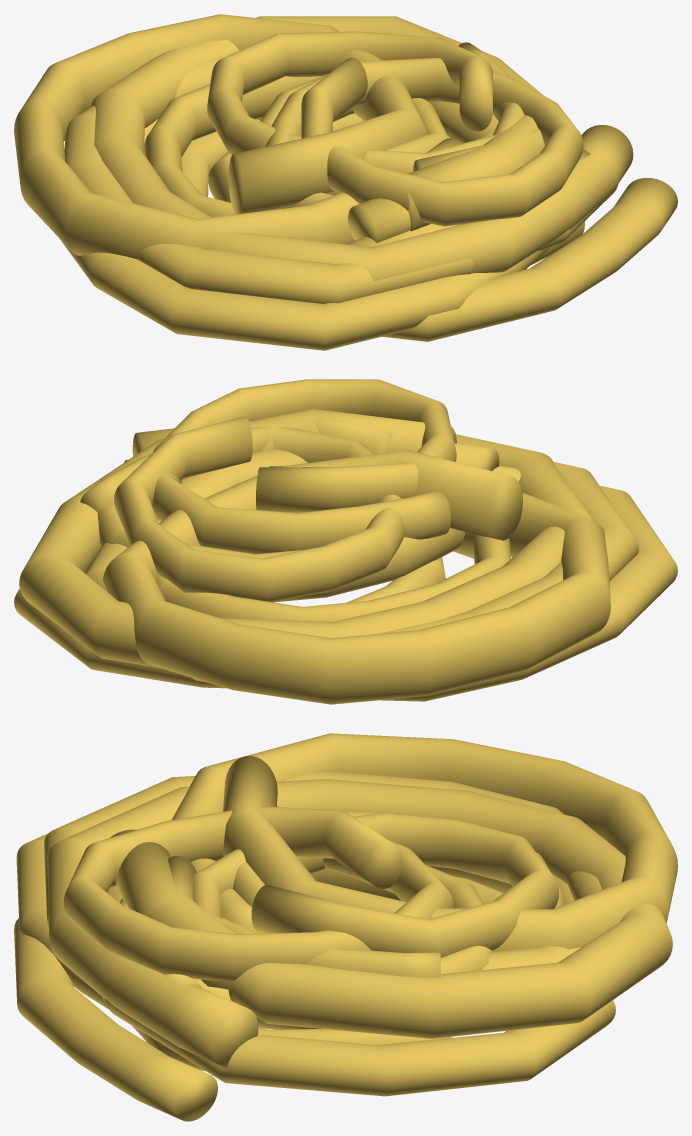
The model's file is cookedPasta.fbx.
3 views of the same model, one above another, from view 1: azimuth 30°, elevation 25°; view 2: azimuth 150°, elevation 25°; view 3: azimuth 270°, elevation 25° (orthographic). The views are drawn at different scales.
Parts seen in each view (by area): view 1: Cylinder.008, Cylinder.001, Cylinder.009, Cylinder.005, Cylinder.006, Cylinder, Cylinder.002, Cylinder.007, Cylinder.004, Cylinder.003; view 2: Cylinder.008, Cylinder.009, Cylinder.001, Cylinder, Cylinder.006, Cylinder.005, Cylinder.007, Cylinder.004, Cylinder.002, Cylinder.003; view 3: Cylinder.001, Cylinder.008, Cylinder.002, Cylinder.009, Cylinder, Cylinder.006, Cylinder.004, Cylinder.005, Cylinder.003, Cylinder.007.
Boxes of the visible parts, <box> form: Cylinder.008: <box>14,14,462,259</box>; Cylinder.001: <box>90,16,633,281</box>; Cylinder.009: <box>266,57,583,226</box>; Cylinder.005: <box>59,118,550,350</box>; Cylinder.006: <box>64,50,498,303</box>; Cylinder: <box>207,31,524,173</box>; Cylinder.002: <box>181,119,677,341</box>; Cylinder.007: <box>144,76,448,217</box>; Cylinder.004: <box>260,74,590,208</box>; Cylinder.003: <box>208,113,584,265</box>; Cylinder.008: <box>102,450,610,704</box>; Cylinder.009: <box>152,379,456,554</box>; Cylinder.001: <box>19,408,590,667</box>; Cylinder: <box>80,416,404,602</box>; Cylinder.006: <box>86,443,638,633</box>; Cylinder.005: <box>192,466,677,701</box>; Cylinder.007: <box>155,532,510,621</box>; Cylinder.004: <box>97,417,464,602</box>; Cylinder.002: <box>14,459,512,688</box>; Cylinder.003: <box>86,557,445,602</box>; Cylinder.001: <box>47,779,672,1067</box>; Cylinder.008: <box>172,733,677,951</box>; Cylinder.002: <box>14,876,615,1121</box>; Cylinder.009: <box>63,806,453,981</box>; Cylinder: <box>193,812,558,977</box>; Cylinder.006: <box>44,770,602,1000</box>; Cylinder.004: <box>120,856,492,1003</box>; Cylinder.005: <box>16,833,573,1009</box>; Cylinder.003: <box>132,1017,451,1071</box>; Cylinder.007: <box>232,808,565,907</box>.
Size of the model in its own units: 128 by 133 by 35.1.
